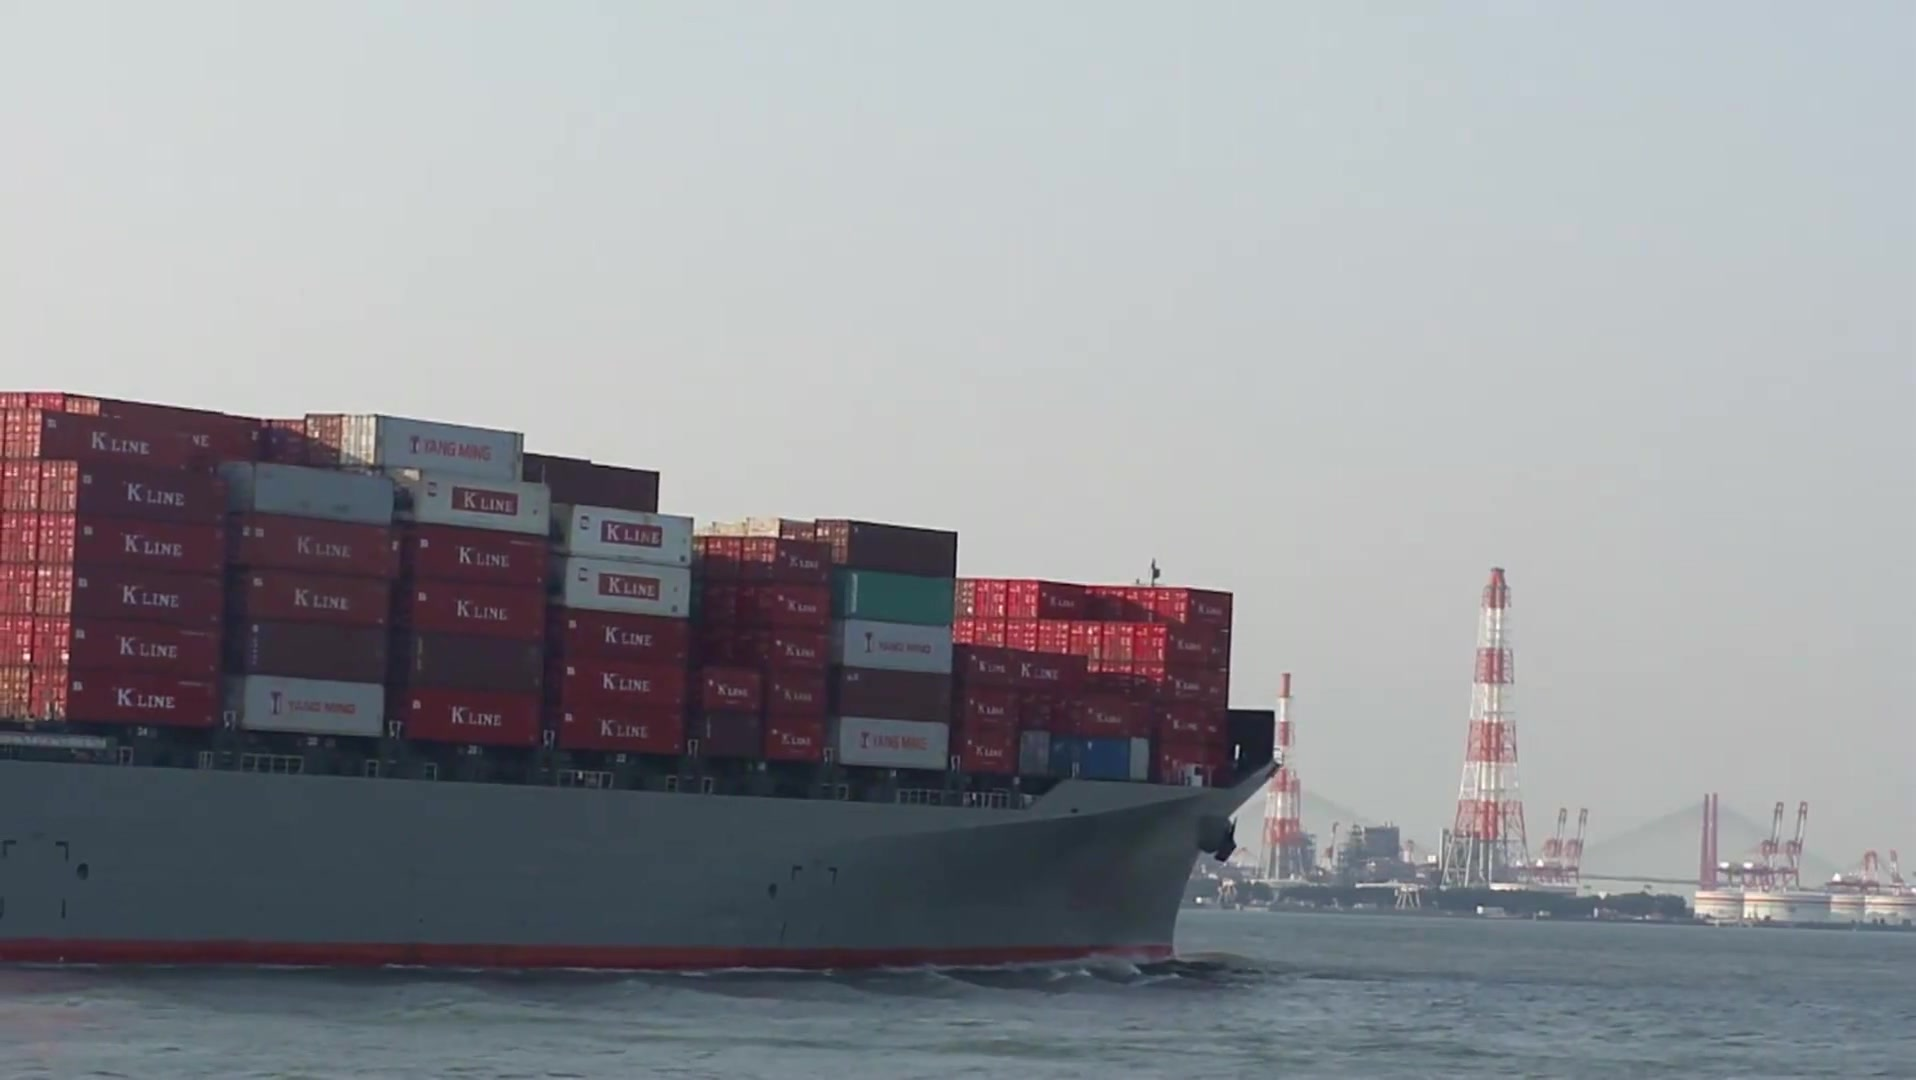boat: (3, 381, 1284, 975), (1225, 555, 1688, 923)
